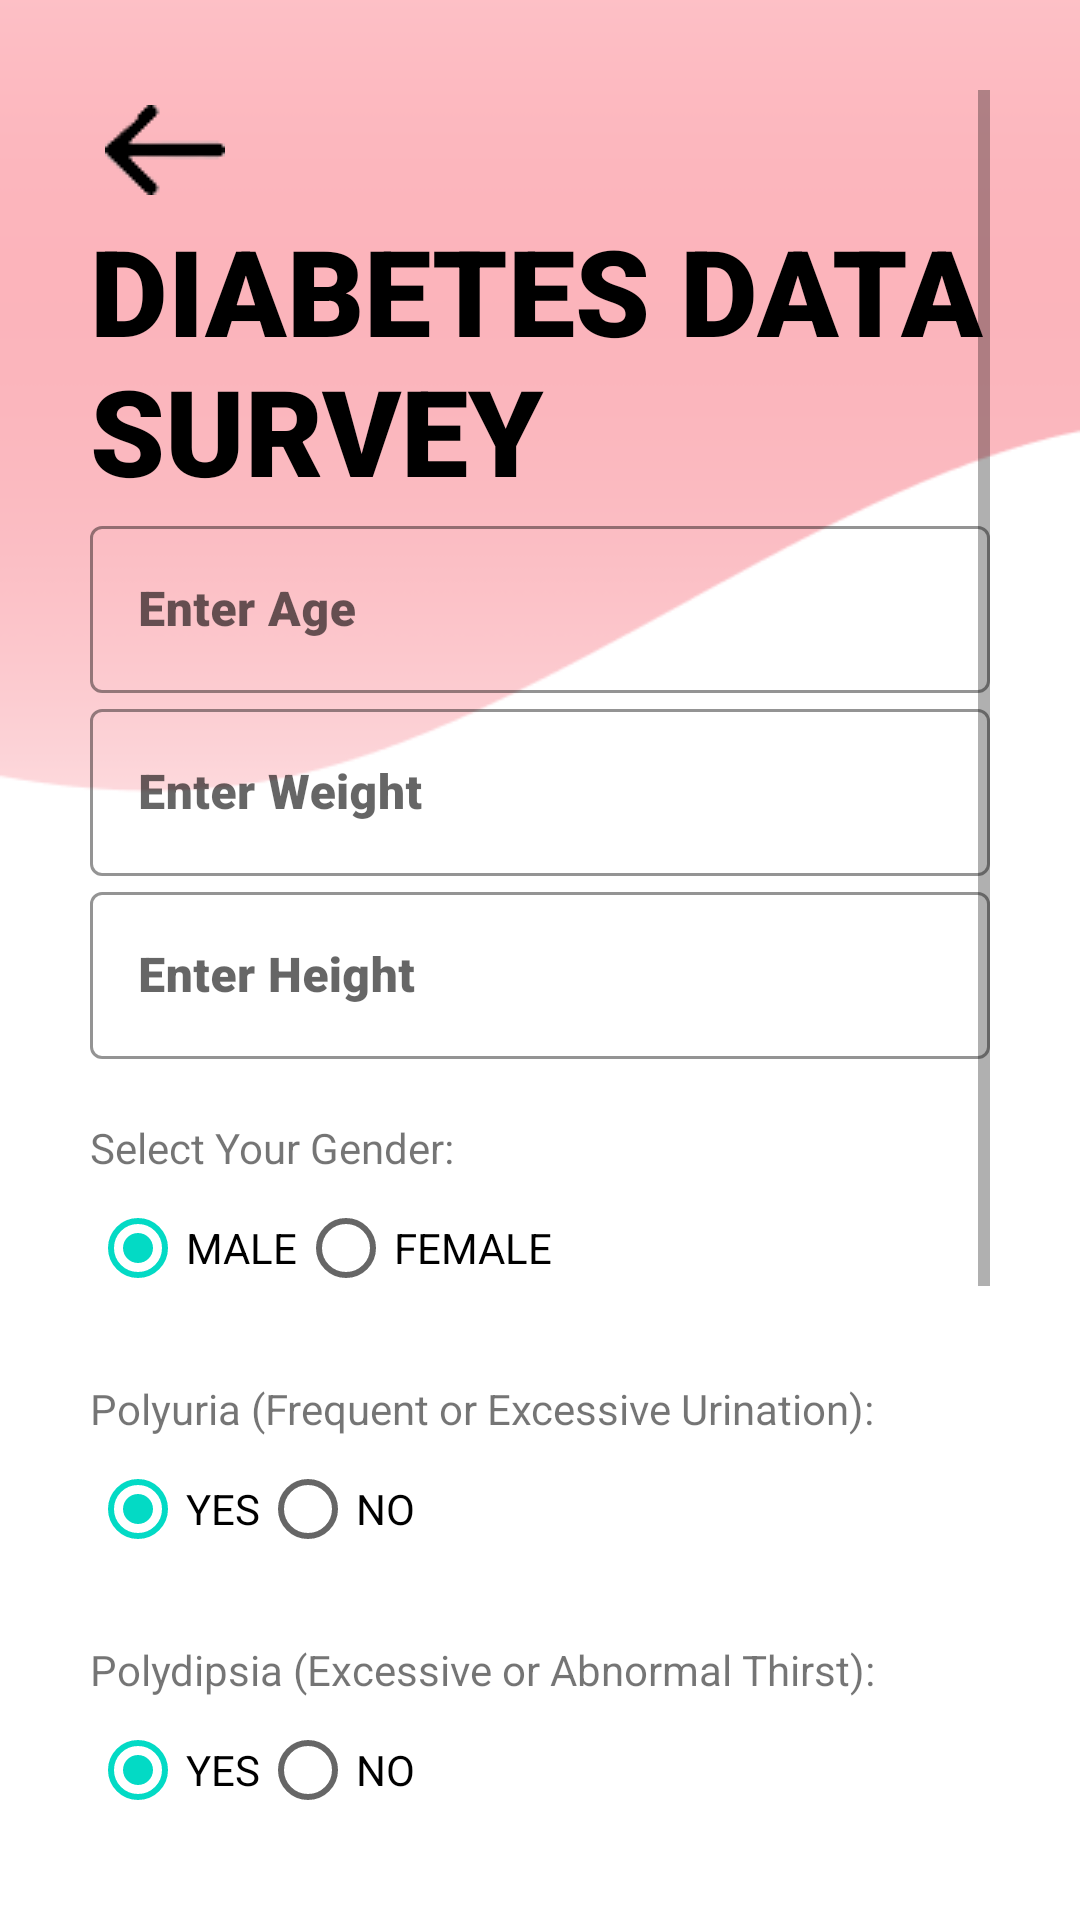

Icons on this 1080w x 1920h Android screen, each with the point to tap as (x=x, y=y):
back: (x=165, y=150)
